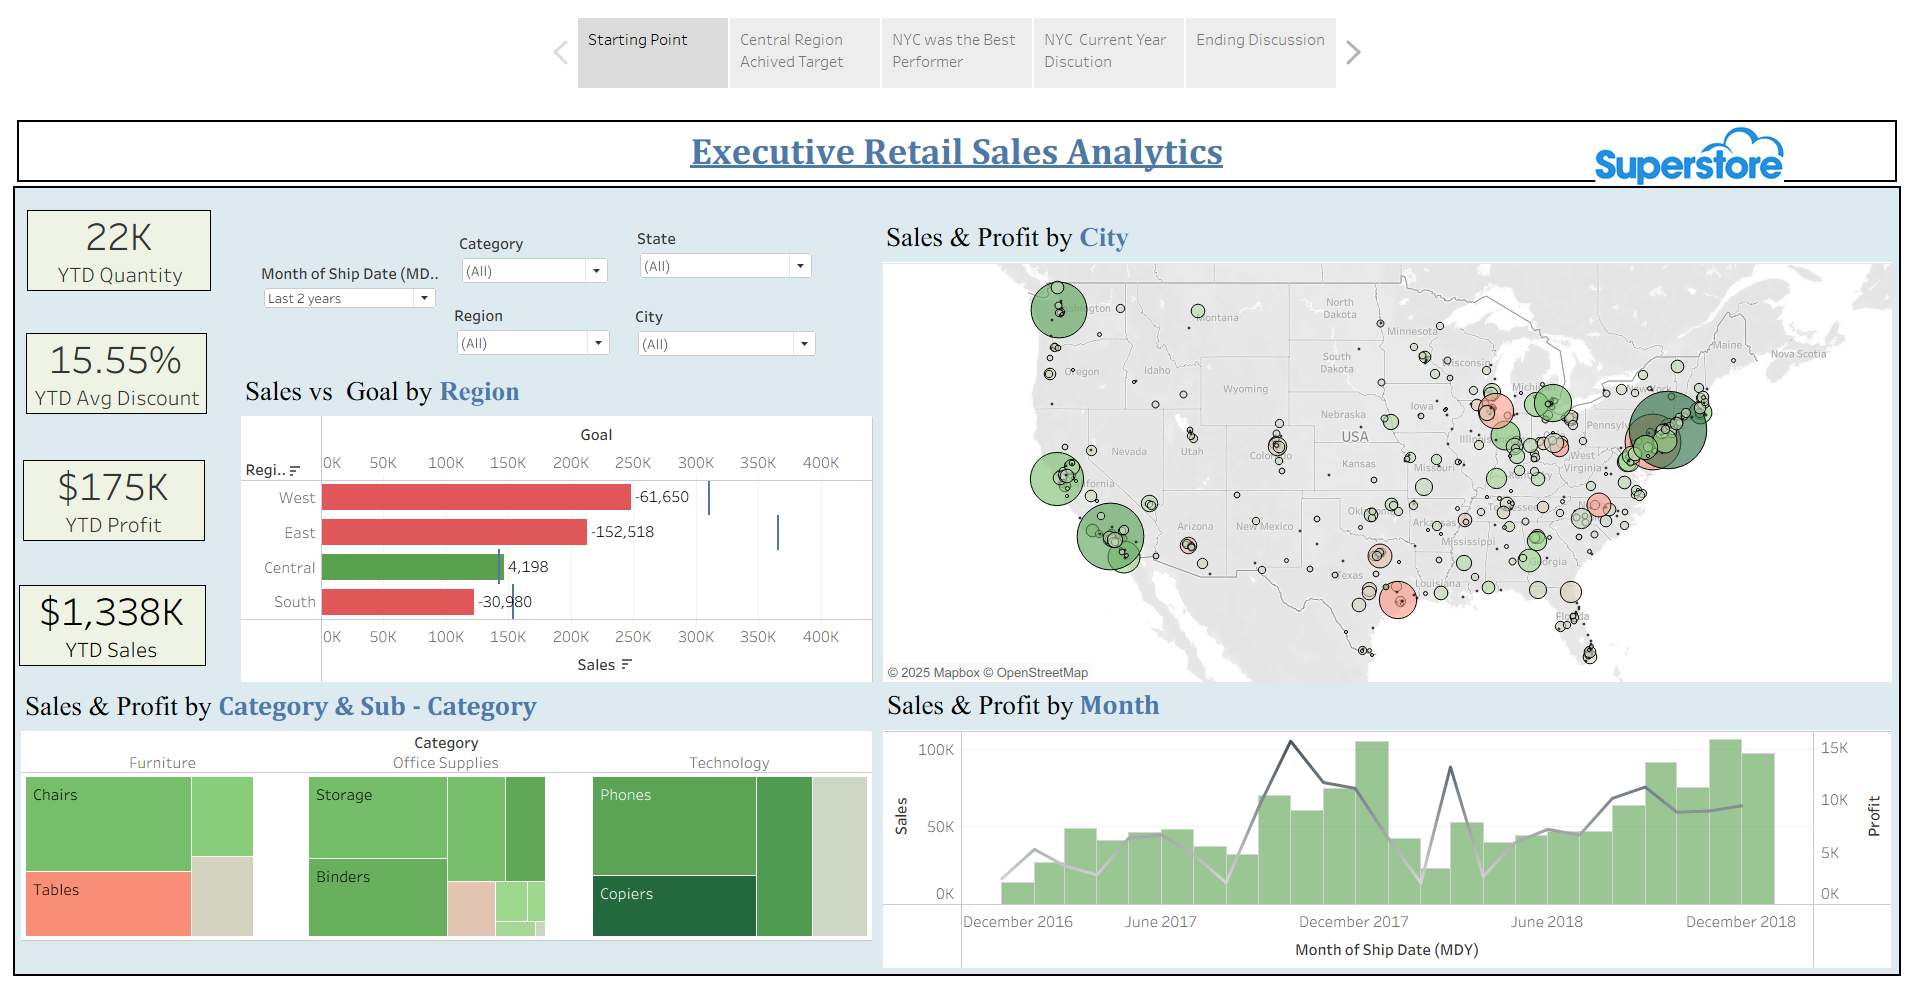

The dashboard page shown, as its layout file describes it:
{"tool":"tableau","page":{"name":"Dashboard 1","canvas":[1000,1000],"units":"permille","ordinal":0},"visuals":[{"type":"title","box":[4.8,10,990.3,87.4]},{"type":"image","param":"Image/download.png","box":[835.2,20,109.8,67.4]},{"type":"worksheet","title":"Sheet 6 (3)","mark":"Automatic","box":[11.5,116.1,112.9,107.4]},{"type":"worksheet","title":"Sheet 3","mark":"Automatic","box":[460.5,126.1,531.1,530.6]},{"type":"filter","title":"Sheet 3","param":"[federated.0hnb2jl033wxgv19xz3st11ub5jo].[none:State:nk]","box":[331.9,137.3,93.5,72.4]},{"type":"filter","title":"Sheet 4","param":"[federated.0hnb2jl033wxgv19xz3st11ub5jo].[none:Category:nk]","box":[238.4,142.3,79.7,76.2]},{"type":"filter","title":"Sheet 5","param":"[federated.0hnb2jl033wxgv19xz3st11ub5jo].[tmn:Ship Date (MDY):qk]","box":[134.6,177.3,93.5,72.4]},{"type":"filter","title":"Sheet 2","param":"[federated.0hnb2jl033wxgv19xz3st11ub5jo].[none:Region:nk]","box":[236,224.7,83.3,73.7]},{"type":"filter","title":"Sheet 3","param":"[federated.0hnb2jl033wxgv19xz3st11ub5jo].[none:City:nk]","box":[330.7,226,96.6,82.4]},{"type":"worksheet","title":"Sheet 6 (4)","mark":"Automatic","box":[10.9,257.2,109.8,101.1]},{"type":"worksheet","title":"Sheet 2","mark":"Automatic","rows":["Region"],"cols":["Sales","Goal"],"box":[123.7,300.9,331.9,354.6]},{"type":"worksheet","title":"Sheet 6 (2)","mark":"Automatic","box":[9.7,402,111,103.6]},{"type":"worksheet","title":"Sheet 6","mark":"Automatic","box":[7.2,544.3,113.5,112.4]},{"type":"worksheet","title":"Sheet 5","mark":"Automatic","rows":["Sales","Profit"],"cols":["Ship Date (MDY)"],"box":[461.1,657.9,529.9,324.6]},{"type":"worksheet","title":"Sheet 4","mark":"Automatic","cols":["Category"],"box":[8.4,659.2,447.2,320.9]}]}

Visuals, with their boxes on the dashboard's canvas, which has no fixed pixel size, in thousandths of its width and height (x1, y1, x2, y2). These are canvas units, not pixel positions in the 1906x986 screenshot, which may show the page scaled, cropped or inside an application window:
title: <bbox>5, 10, 995, 97</bbox>
image: <bbox>835, 20, 945, 87</bbox>
"Sheet 6 (3)" worksheet: <bbox>12, 116, 124, 224</bbox>
"Sheet 3" worksheet: <bbox>460, 126, 992, 657</bbox>
"Sheet 3" filter: <bbox>332, 137, 425, 210</bbox>
"Sheet 4" filter: <bbox>238, 142, 318, 218</bbox>
"Sheet 5" filter: <bbox>135, 177, 228, 250</bbox>
"Sheet 2" filter: <bbox>236, 225, 319, 298</bbox>
"Sheet 3" filter: <bbox>331, 226, 427, 308</bbox>
"Sheet 6 (4)" worksheet: <bbox>11, 257, 121, 358</bbox>
"Sheet 2" worksheet: <bbox>124, 301, 456, 656</bbox>
"Sheet 6 (2)" worksheet: <bbox>10, 402, 121, 506</bbox>
"Sheet 6" worksheet: <bbox>7, 544, 121, 657</bbox>
"Sheet 5" worksheet: <bbox>461, 658, 991, 982</bbox>
"Sheet 4" worksheet: <bbox>8, 659, 456, 980</bbox>
